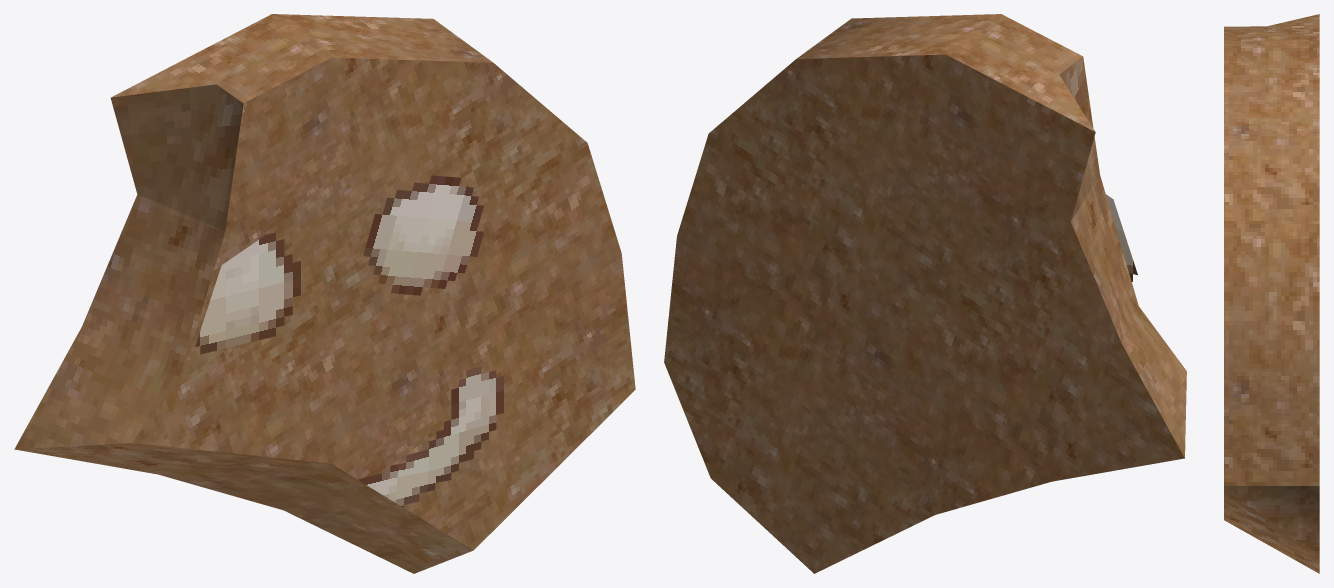
The model's file is stg200_obj_ginger_bp1.obj.
3 views of the same model, side by side, from view 1: azimuth 30°, elevation 25°; view 2: azimuth 150°, elevation 25°; view 3: azimuth 270°, elevation 25° (orthographic). The views are drawn at different scales.
Parts seen in each view (by area): view 1: polygon0, polygon1; view 2: polygon0; view 3: polygon0.
Part boxes in pixels (left/top/right/bottom): polygon0: left=14, top=14, right=635, bottom=573; polygon1: left=195, top=175, right=503, bottom=507; polygon0: left=664, top=14, right=1186, bottom=573; polygon0: left=1224, top=14, right=1319, bottom=573.
Bounding box in the file's own units: 5.52 × 5.58 × 1.11.
Materials: 2 (2 with a texture image).
